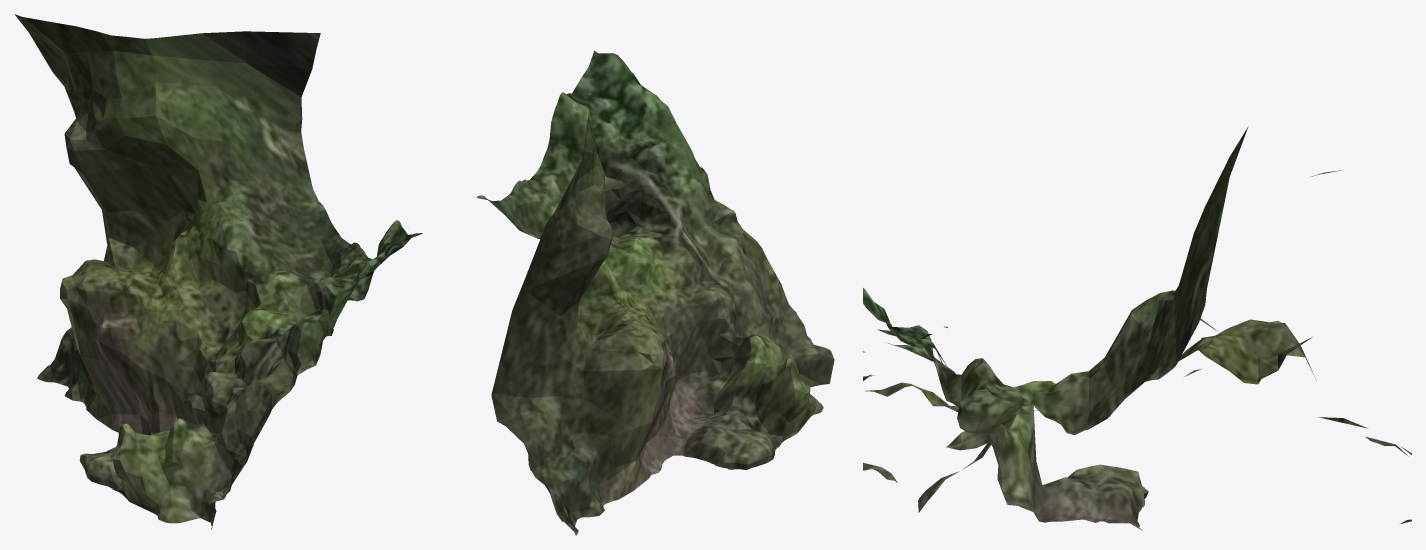
The picture shows the model from 3 angles, left to right: view 1: azimuth 30°, elevation 25°; view 2: azimuth 150°, elevation 25°; view 3: azimuth 270°, elevation 25°; orthographic projection. The views are drawn at different scales.
Bounding box in the file's own units: 4.31 × 5.9 × 5.9.
Materials: 3 (3 with a texture image).
